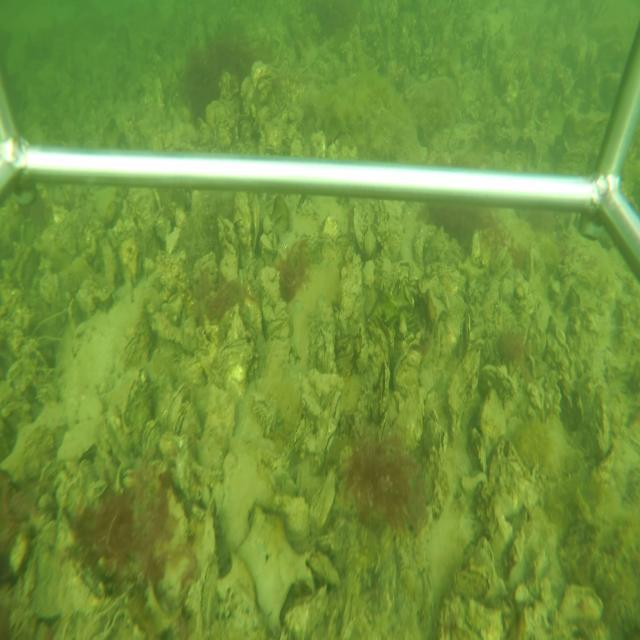Oyster-Closed: (446, 346, 482, 449), (119, 364, 150, 451), (282, 584, 330, 639), (477, 387, 507, 463), (318, 388, 342, 463), (216, 212, 242, 276), (163, 377, 190, 435)
Oyster-Indeterminate: (195, 380, 236, 474), (391, 385, 426, 455), (352, 203, 366, 257)
Oyster-Open: (233, 187, 260, 253), (378, 365, 392, 417), (397, 340, 423, 367)
